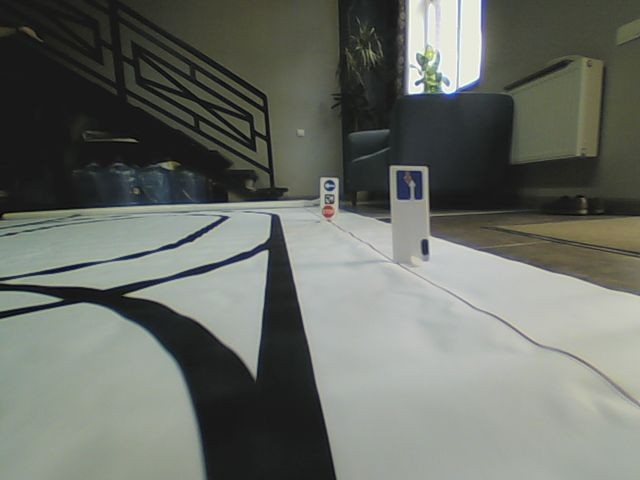priority_movement: (395, 169, 423, 199)
